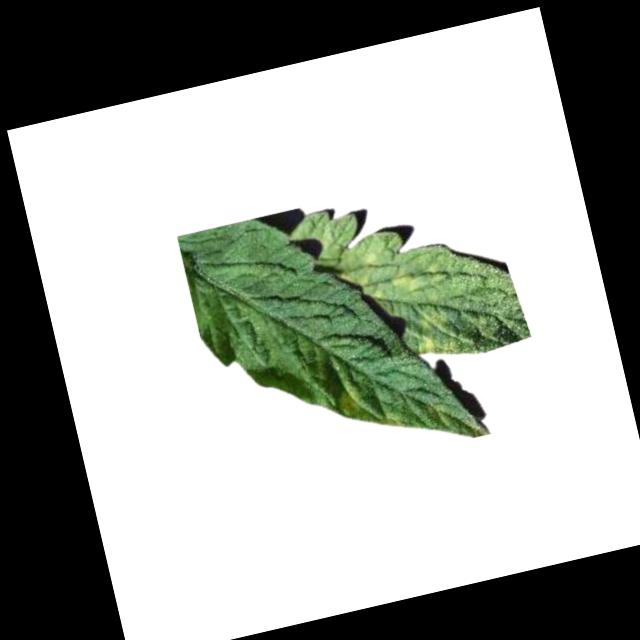Leaf_Mold: (408, 299, 467, 361), (329, 373, 370, 419), (386, 257, 425, 299), (377, 403, 409, 432)
